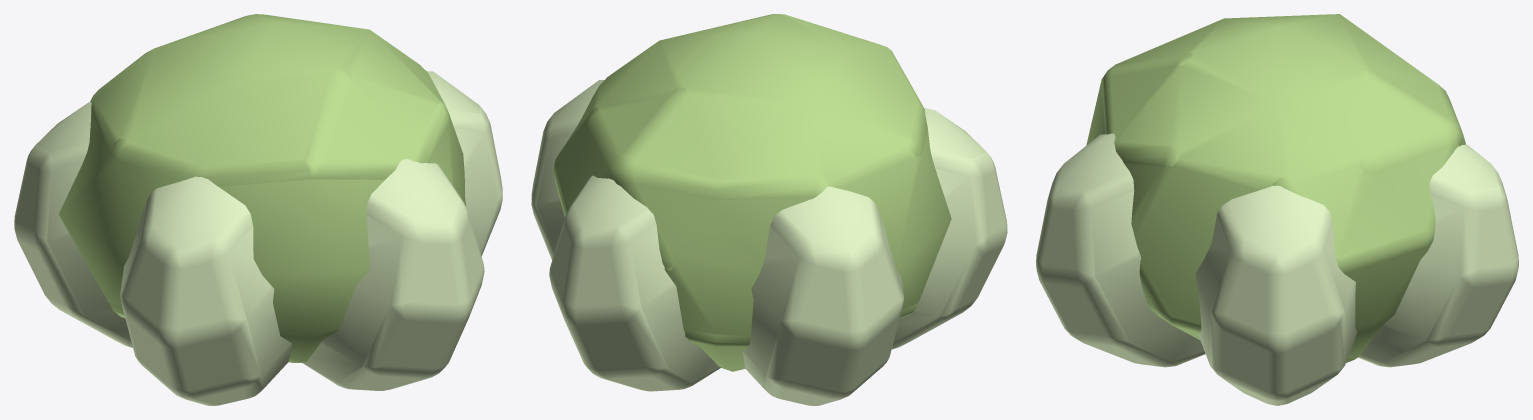
The model's file is Cabbage.glb.
The picture shows the model from 3 angles, left to right: view 1: azimuth 30°, elevation 25°; view 2: azimuth 150°, elevation 25°; view 3: azimuth 270°, elevation 25°; orthographic projection. The views are drawn at different scales.
Visible parts, largest first — view 1: Cabbage; view 2: Cabbage; view 3: Cabbage.
Boxes of the visible parts, x1,y1,x2,y2 form: Cabbage: (14,14,502,405); Cabbage: (531,14,1007,405); Cabbage: (1036,14,1518,405).
Bounding box in the file's own units: 0.1719 × 0.1324 × 0.1771.
